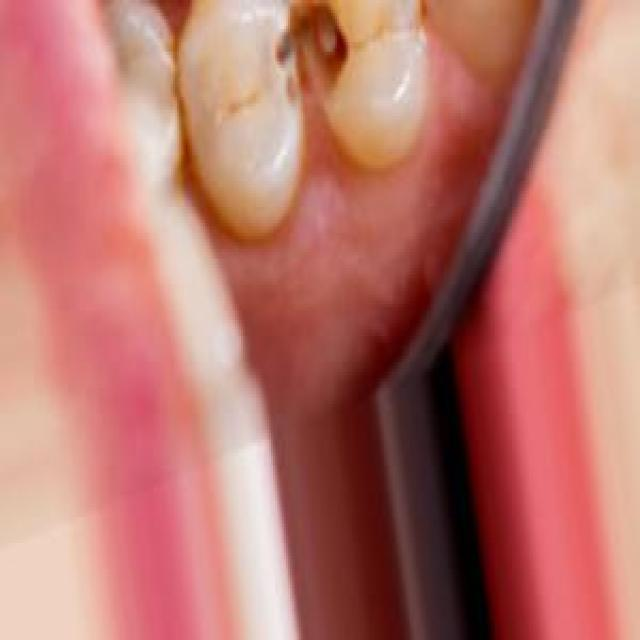caries: (258, 0, 365, 141)
